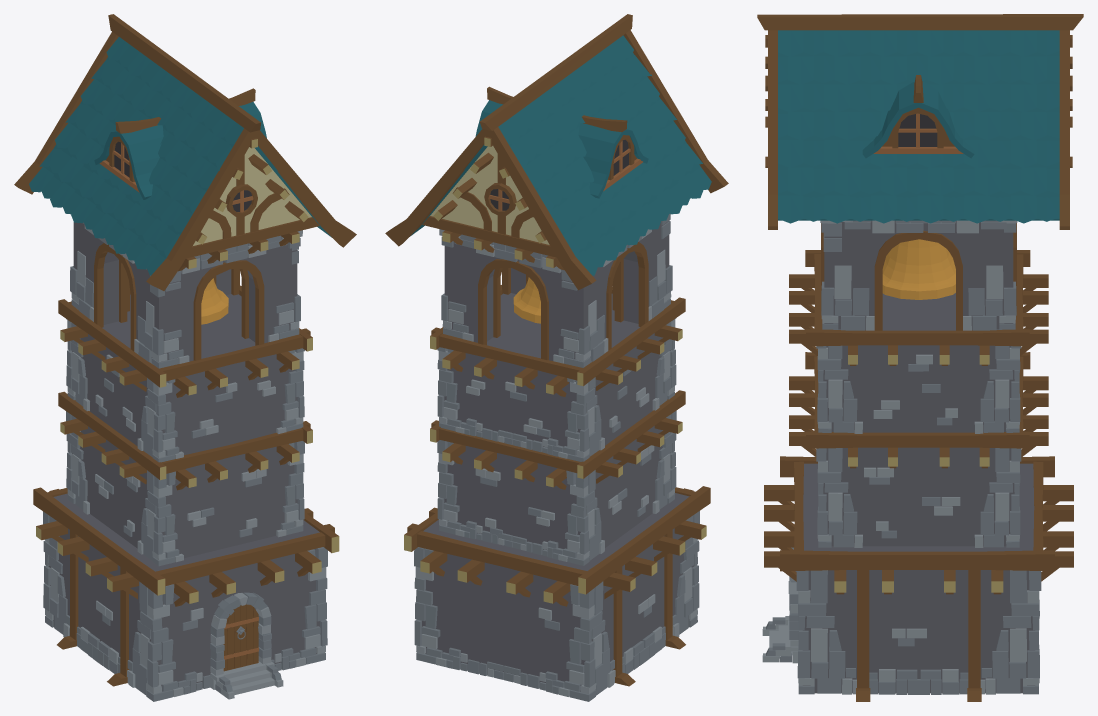
Rendered from Bell_Tower.glb.
3 renders of one model, left to right at view 1: azimuth 30°, elevation 25°; view 2: azimuth 150°, elevation 25°; view 3: azimuth 270°, elevation 25°, orthographic. The views are drawn at different scales.
Visible parts, largest first — view 1: Bell_Tower; view 2: Bell_Tower; view 3: Bell_Tower.
Boxes of the visible parts, x1=… form: Bell_Tower: x1=14, y1=14, x2=356, y2=701; Bell_Tower: x1=385, y1=14, x2=728, y2=701; Bell_Tower: x1=757, y1=14, x2=1083, y2=701.
Bounding box in the file's own units: 1.94 × 4.76 × 2.23.
1 material, 1 textured.
